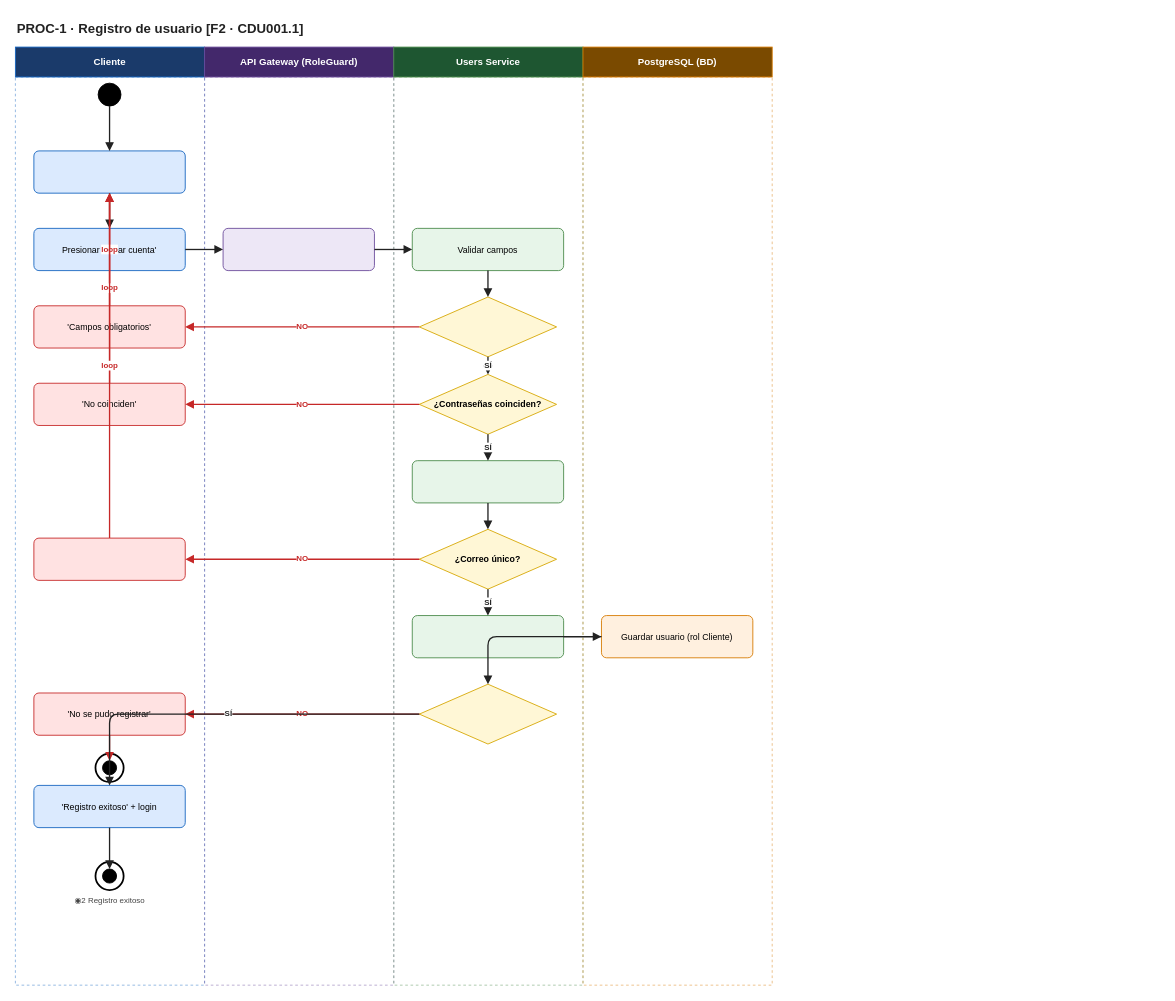
Image size: 1175x1001. Some labels were removed from this diagram. The shapes that lost their labels are listed below. From the top down, each one's box as (x1, y1, x2, y2) in pixels, then its label:
(33, 150, 185, 193): Ingresar datos de registro
(222, 227, 374, 271): Rutar POST /register
(418, 296, 557, 357): ¿Campos completos?
(411, 460, 564, 503): Verificar correo único
(33, 537, 185, 580): 'Correo ya en uso'
(411, 615, 564, 658): Encriptar contraseña (bcrypt)
(418, 683, 557, 744): ¿Guardado OK?
